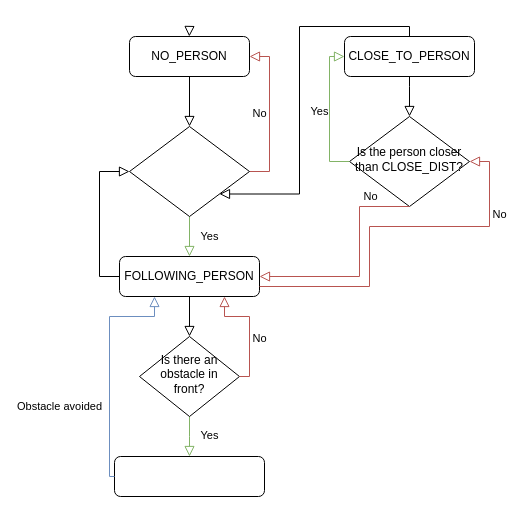
Image size: 524x514. Some labels were removed from this diagram. The box of each missing label's shape, as (x1, y1, x2, y2) in pixels:
Is there a person in the detection list?: (128, 126, 250, 216)
OBSTACLE_DETECTED: (114, 456, 264, 496)
